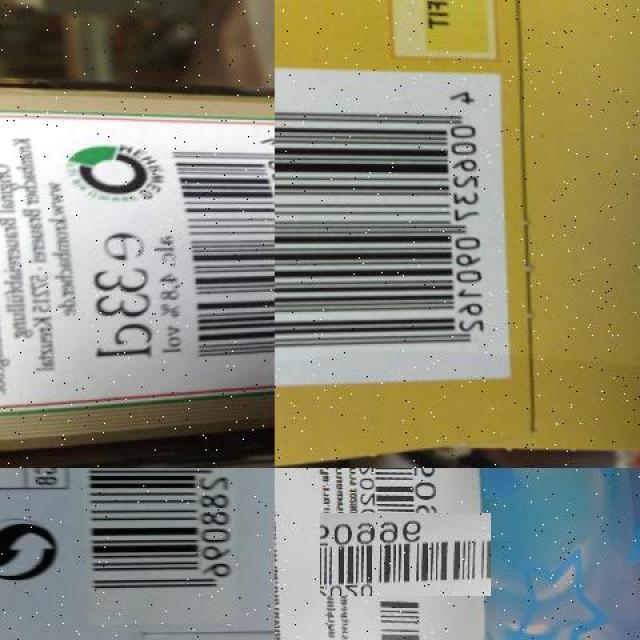Barcode: (275, 68, 513, 391), (81, 468, 242, 625), (169, 133, 275, 368), (342, 490, 469, 618)
